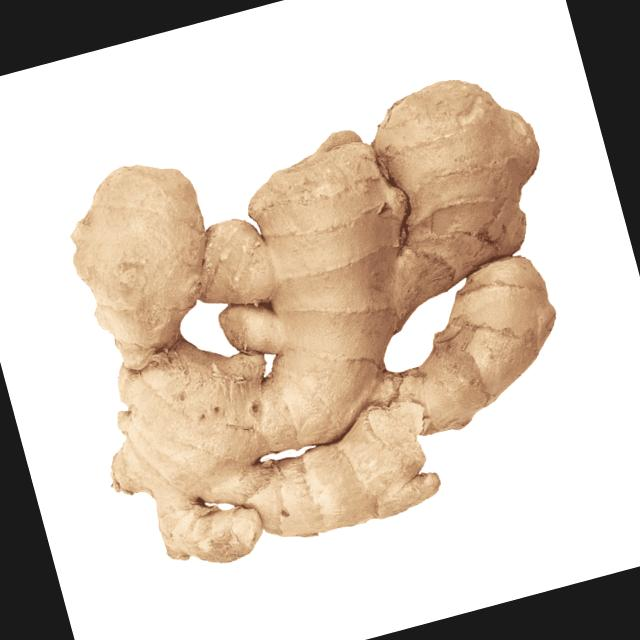ginger-root: (6, 27, 632, 596)
